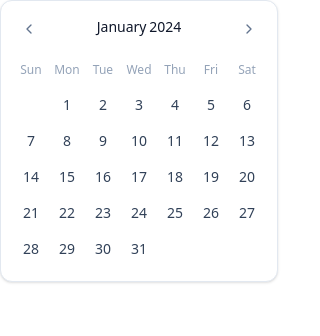
Calendar › navigates to the previous month
Click the button named "Previous month".
click(29, 29)  # box [13,13,45,45]
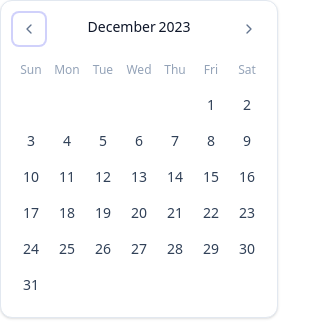
Now the text "December 2023" is shown, box [88,19,190,39]
